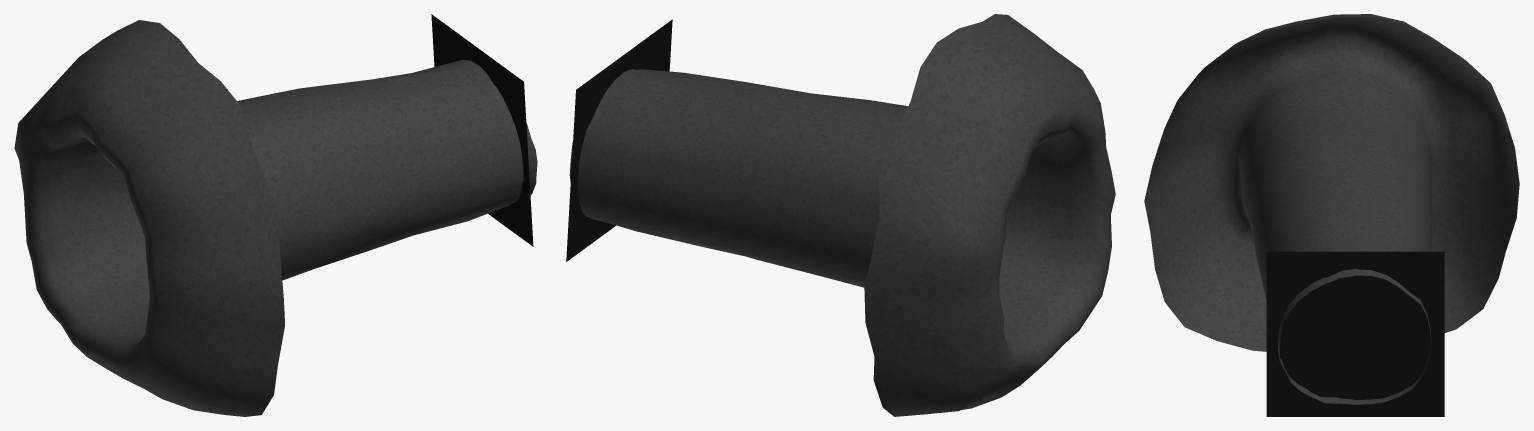
The model's file is CaveEntrance.fbx.
The picture shows the model from 3 angles, left to right: view 1: azimuth 30°, elevation 25°; view 2: azimuth 150°, elevation 25°; view 3: azimuth 270°, elevation 25°; orthographic projection. The views are drawn at different scales.
Visible parts, largest first — view 1: CaveEntrance; view 2: CaveEntrance; view 3: CaveEntrance.
Boxes of the visible parts, box(x1,y1,x2,y2) form: CaveEntrance: box(14, 14, 537, 416); CaveEntrance: box(566, 14, 1115, 416); CaveEntrance: box(1144, 14, 1519, 416).
Bounding box in the file's own units: 1907 × 1506 × 1510.
1 material, 1 textured.
